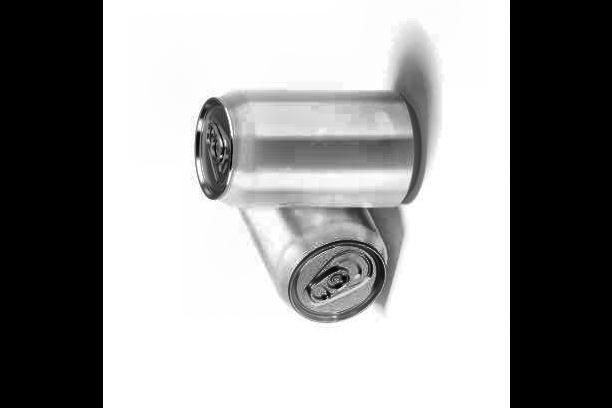can: (156, 73, 450, 219), (221, 206, 395, 336)
